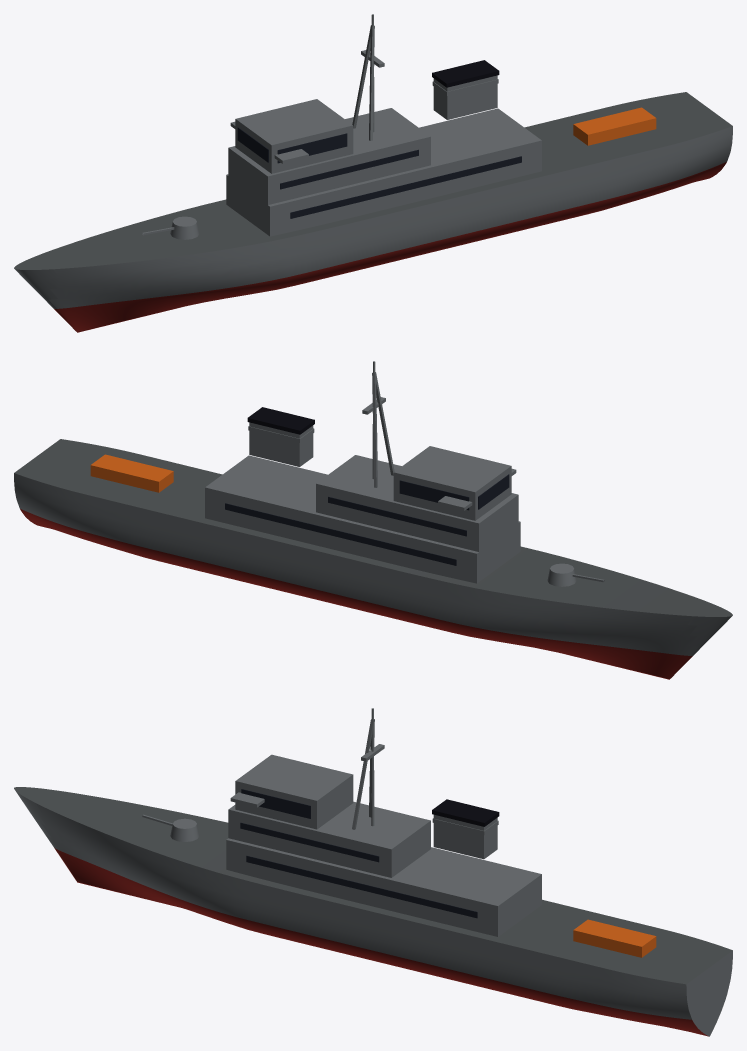
File: patrol.glb
The picture shows the model from 3 angles, top to bottom: view 1: azimuth 30°, elevation 25°; view 2: azimuth 150°, elevation 25°; view 3: azimuth 330°, elevation 25°; orthographic projection.
Visible parts, largest first — view 1: patrol; view 2: patrol; view 3: patrol.
Part boxes in pixels (left/top/right/bottom): patrol: left=14, top=14, right=732, bottom=332; patrol: left=14, top=361, right=732, bottom=679; patrol: left=14, top=708, right=732, bottom=1036.
Bounding box in the file's own units: 66 × 22.3 × 9.
